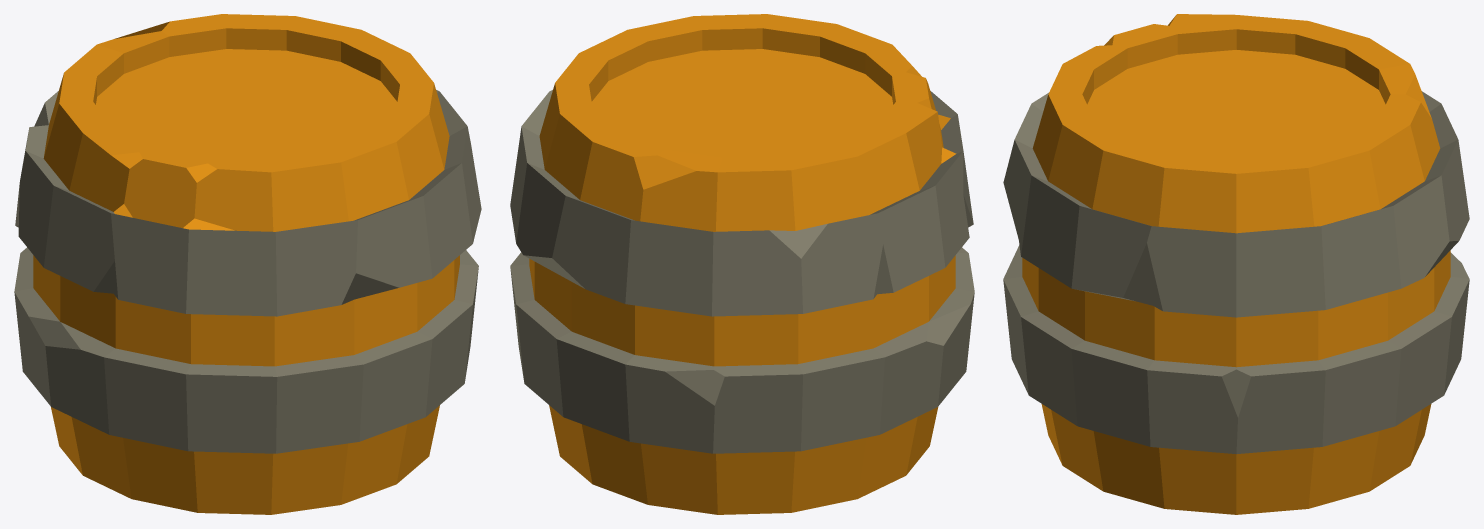
File: Barrel.glb
The picture shows the model from 3 angles, left to right: view 1: azimuth 30°, elevation 25°; view 2: azimuth 150°, elevation 25°; view 3: azimuth 270°, elevation 25°; orthographic projection.
Visible parts, largest first — view 1: Cylinder; view 2: Cylinder; view 3: Cylinder.
Boxes of the visible parts, x1,y1,x2,y2 form: Cylinder: [14, 14, 481, 514]; Cylinder: [510, 14, 974, 514]; Cylinder: [1003, 14, 1469, 514].
Bounding box in the file's own units: 2.48 × 2 × 2.48.
